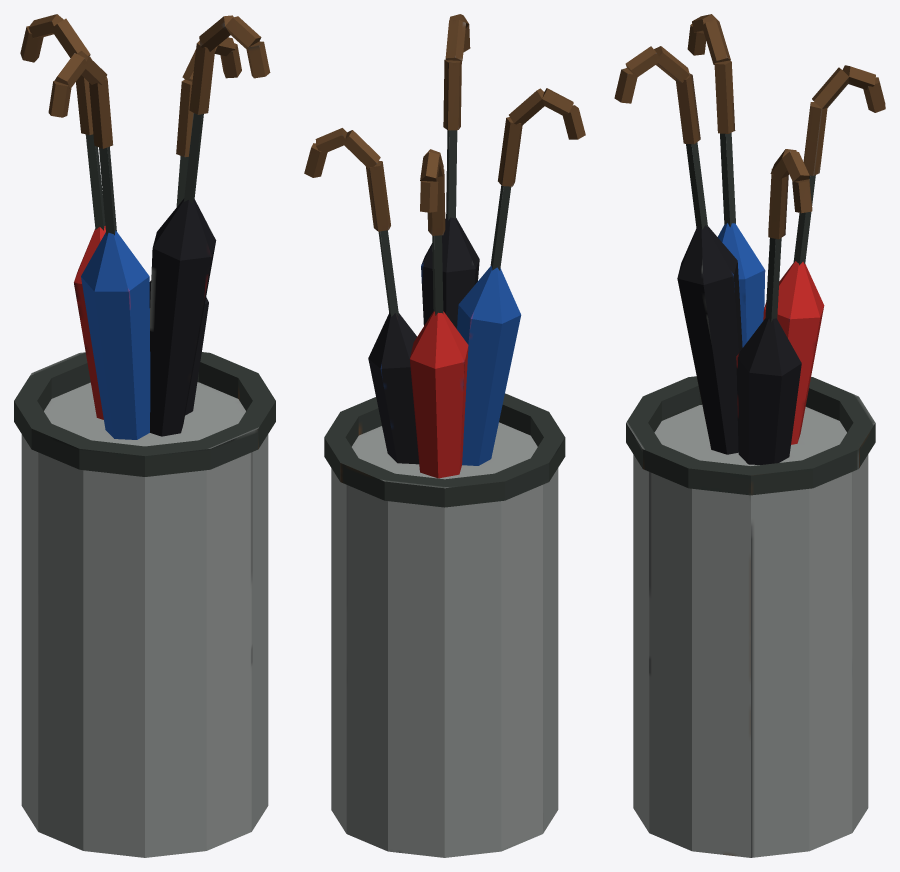
Rendered from stojan_destniku_a0180099.glb.
The picture shows the model from 3 angles, left to right: view 1: azimuth 30°, elevation 25°; view 2: azimuth 150°, elevation 25°; view 3: azimuth 270°, elevation 25°; orthographic projection. The views are drawn at different scales.
Visible parts, largest first — view 1: dum; view 2: dum; view 3: dum.
Boxes of the visible parts, x1=… form: dum: x1=14, y1=14, x2=275, y2=857; dum: x1=304, y1=14, x2=585, y2=857; dum: x1=614, y1=14, x2=885, y2=857.
Size of the model in its own units: 0.3698 by 1.17 by 0.3687.
1 material, 1 textured.
